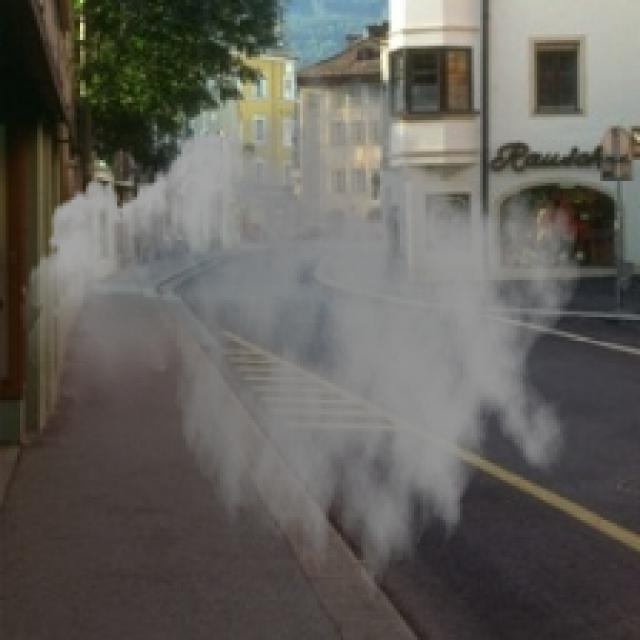Smoke: (20, 60, 583, 626)
